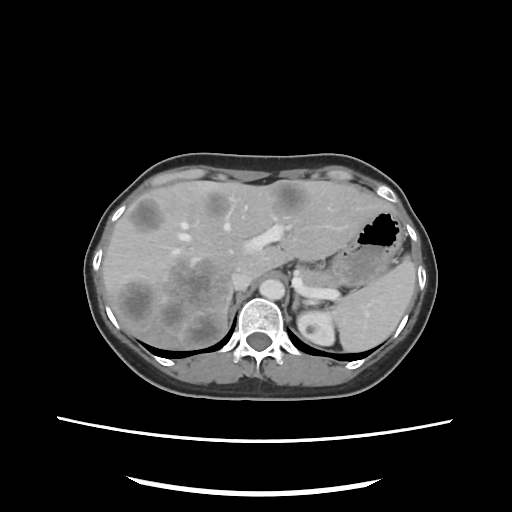Lesion: (105, 255, 236, 353), (304, 321, 322, 339)
